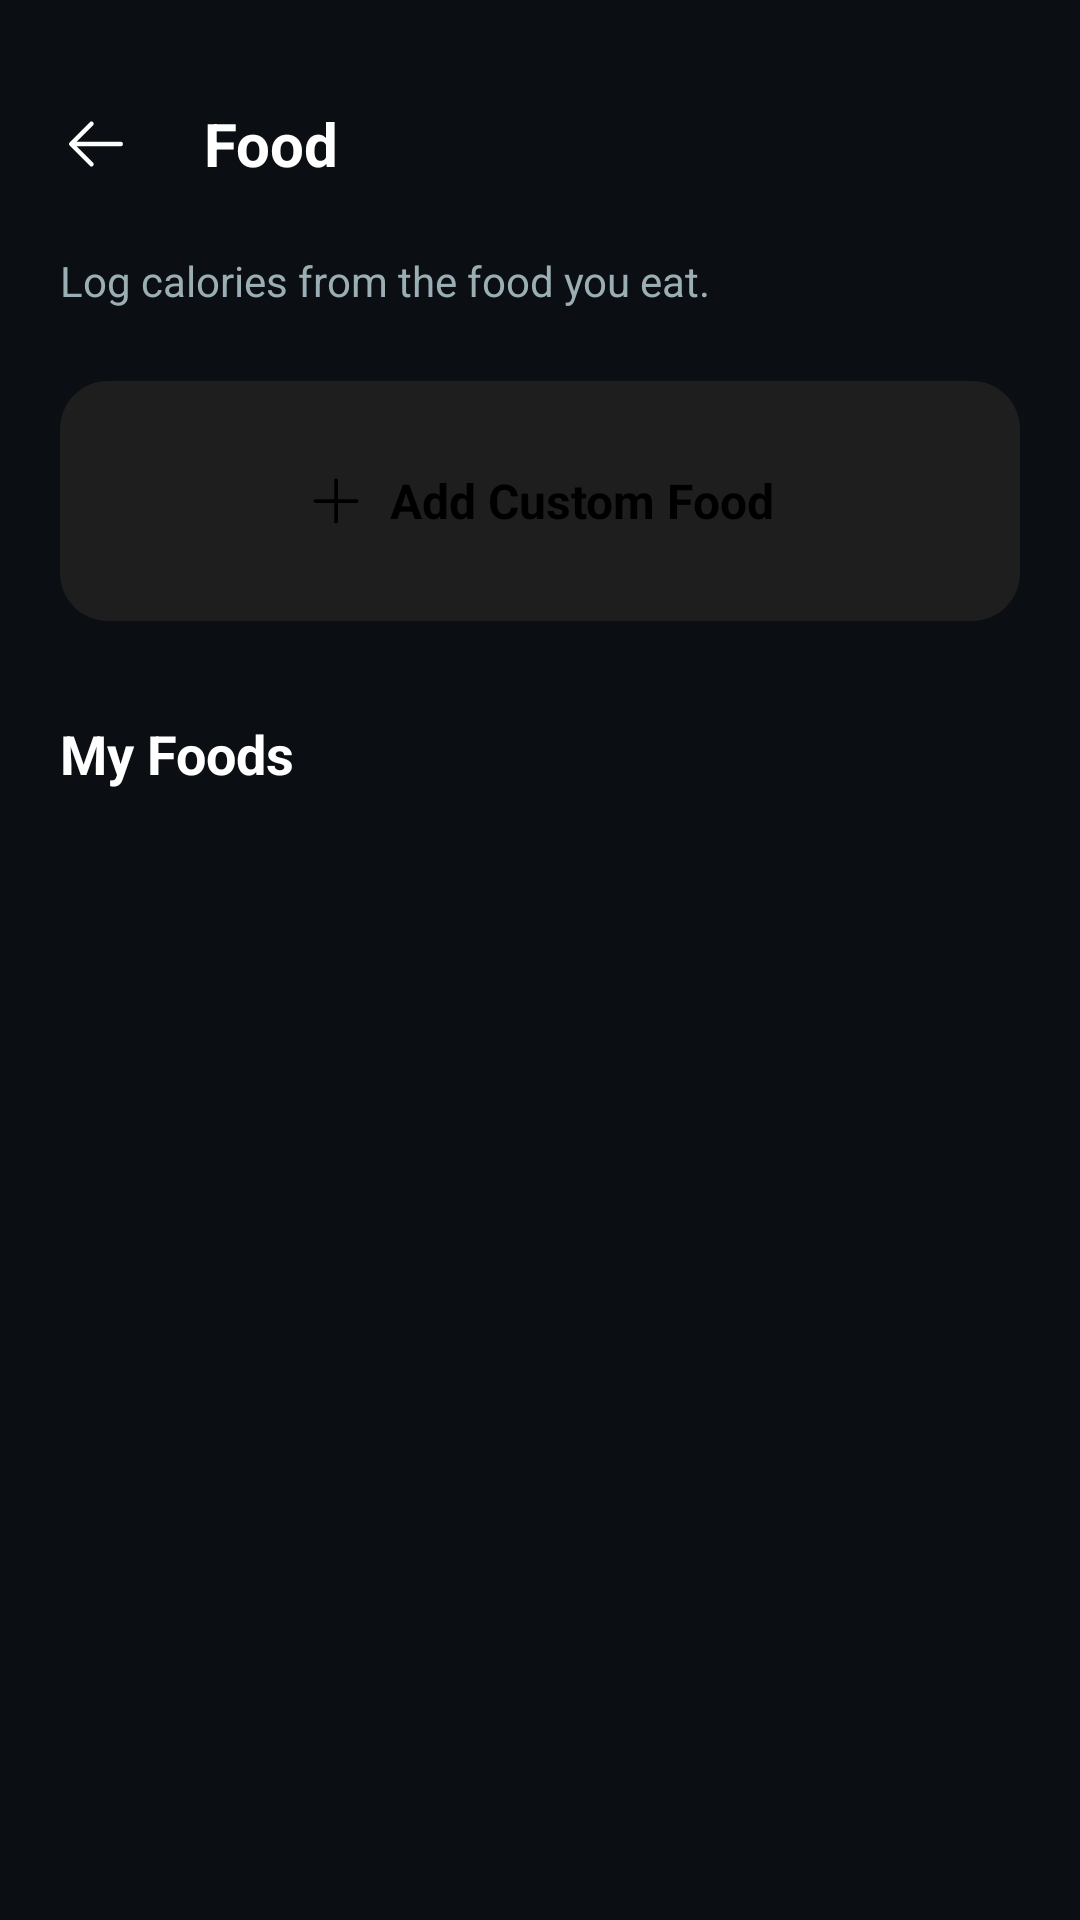

Where to tap for icons on this 1080*1920 app screen, as [x,y]:
Back: [96,144]
